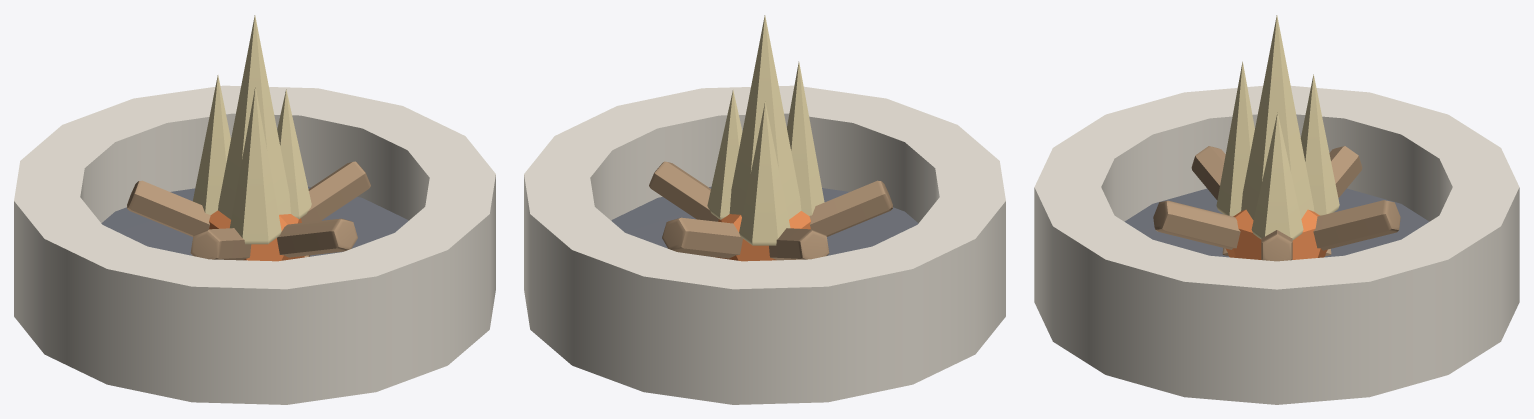
Rendered from FirePit.fbx.
The picture shows the model from 3 angles, left to right: view 1: azimuth 30°, elevation 25°; view 2: azimuth 150°, elevation 25°; view 3: azimuth 270°, elevation 25°; orthographic projection.
Visible parts, largest first — view 1: FirePit; view 2: FirePit; view 3: FirePit.
Boxes of the visible parts, x1=… form: FirePit: x1=14, y1=15, x2=495, y2=404; FirePit: x1=524, y1=15, x2=1005, y2=404; FirePit: x1=1034, y1=15, x2=1519, y2=404.
Bounding box in the file's own units: 1.6 × 1.05 × 1.6.
